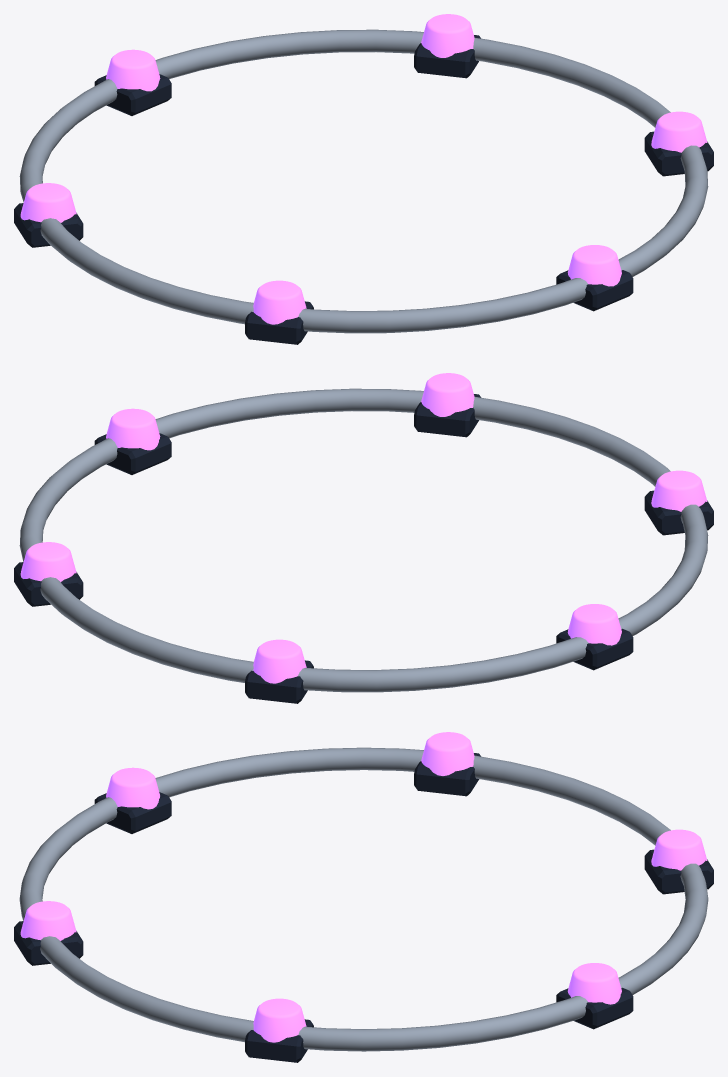
The model's file is tower_singularity_range_s4.glb.
3 renders of one model, top to bottom at view 1: azimuth 30°, elevation 25°; view 2: azimuth 150°, elevation 25°; view 3: azimuth 270°, elevation 25°, orthographic.
Parts seen in each view (by area): view 1: singularity_projector_ring, singularity_projector_node2, singularity_projector_node5, singularity_projector_node1, singularity_projector_node4, singularity_projector_node3, singularity_projector_node0, singularity_projector_shoe2, singularity_projector_shoe5, singularity_projector_shoe1, singularity_projector_shoe4, singularity_projector_shoe3 (+1 smaller); view 2: singularity_projector_ring, singularity_projector_node4, singularity_projector_node1, singularity_projector_node3, singularity_projector_node0, singularity_projector_node5, singularity_projector_node2, singularity_projector_shoe4, singularity_projector_shoe1, singularity_projector_shoe3, singularity_projector_shoe0, singularity_projector_shoe5 (+1 smaller); view 3: singularity_projector_ring, singularity_projector_node0, singularity_projector_node3, singularity_projector_node5, singularity_projector_node2, singularity_projector_node1, singularity_projector_node4, singularity_projector_shoe0, singularity_projector_shoe3, singularity_projector_shoe5, singularity_projector_shoe2, singularity_projector_shoe1 (+1 smaller).
Part boxes in pixels (left/top/right/bottom): singularity_projector_ring: left=19, top=29, right=708, bottom=333; singularity_projector_node2: left=421, top=14, right=474, bottom=57; singularity_projector_node5: left=253, top=280, right=306, bottom=324; singularity_projector_node1: left=106, top=49, right=160, bottom=91; singularity_projector_node4: left=567, top=245, right=621, bottom=286; singularity_projector_node3: left=651, top=111, right=707, bottom=152; singularity_projector_node0: left=20, top=183, right=76, bottom=222; singularity_projector_shoe2: left=414, top=35, right=480, bottom=78; singularity_projector_shoe5: left=245, top=301, right=313, bottom=344; singularity_projector_shoe1: left=94, top=74, right=171, bottom=115; singularity_projector_shoe4: left=556, top=270, right=633, bottom=311; singularity_projector_shoe3: left=644, top=131, right=713, bottom=176; singularity_projector_ring: left=19, top=388, right=708, bottom=692; singularity_projector_node4: left=421, top=373, right=474, bottom=416; singularity_projector_node1: left=253, top=639, right=306, bottom=683; singularity_projector_node3: left=106, top=408, right=160, bottom=450; singularity_projector_node0: left=567, top=604, right=621, bottom=645; singularity_projector_node5: left=651, top=470, right=707, bottom=511; singularity_projector_node2: left=20, top=542, right=76, bottom=581; singularity_projector_shoe4: left=414, top=394, right=480, bottom=437; singularity_projector_shoe1: left=245, top=660, right=313, bottom=703; singularity_projector_shoe3: left=94, top=433, right=171, bottom=474; singularity_projector_shoe0: left=556, top=628, right=633, bottom=670; singularity_projector_shoe5: left=644, top=490, right=713, bottom=535; singularity_projector_ring: left=19, top=747, right=708, bottom=1051; singularity_projector_node0: left=421, top=732, right=474, bottom=775; singularity_projector_node3: left=253, top=998, right=306, bottom=1042; singularity_projector_node5: left=106, top=767, right=159, bottom=809; singularity_projector_node2: left=567, top=963, right=621, bottom=1004; singularity_projector_node1: left=651, top=829, right=707, bottom=870; singularity_projector_node4: left=20, top=901, right=76, bottom=940; singularity_projector_shoe0: left=414, top=753, right=480, bottom=796; singularity_projector_shoe3: left=245, top=1019, right=313, bottom=1062; singularity_projector_shoe5: left=94, top=792, right=171, bottom=833; singularity_projector_shoe2: left=556, top=987, right=633, bottom=1029; singularity_projector_shoe1: left=644, top=849, right=713, bottom=894.
Size of the model in its own units: 2.19 by 0.1508 by 2.19.
